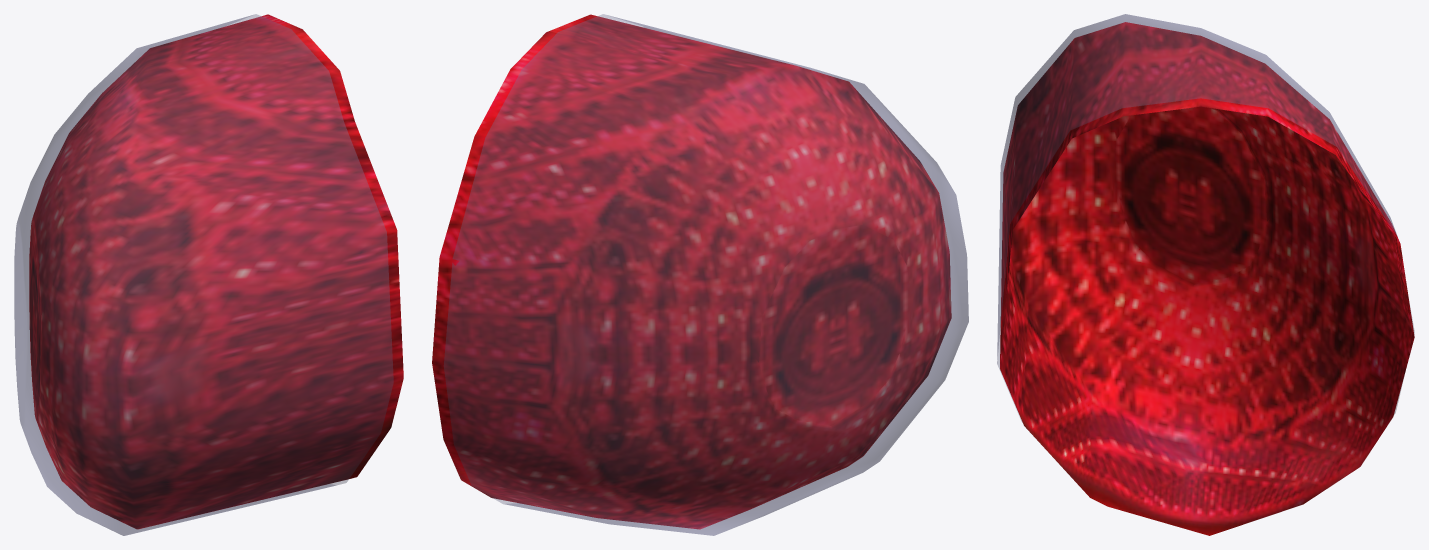
The picture shows the model from 3 angles, left to right: view 1: azimuth 30°, elevation 25°; view 2: azimuth 150°, elevation 25°; view 3: azimuth 270°, elevation 25°; orthographic projection. The views are drawn at different scales.
Parts seen in each view (by area): view 1: U236_17_541C_L_U236_17_541C_L_1_DTaSI, U236_17_541C_L_2_N_U236_17_541C_L; view 2: U236_17_541C_L_U236_17_541C_L_1_DTaSI, U236_17_541C_L_2_N_U236_17_541C_L; view 3: U236_17_541C_L_2_N_U236_17_541C_L, U236_17_541C_L_U236_17_541C_L_1_DTaSI.
Part boxes in pixels (<box>): U236_17_541C_L_U236_17_541C_L_1_DTaSI: <box>14,14,393,535</box>; U236_17_541C_L_2_N_U236_17_541C_L: <box>29,14,403,529</box>; U236_17_541C_L_U236_17_541C_L_1_DTaSI: <box>444,14,968,535</box>; U236_17_541C_L_2_N_U236_17_541C_L: <box>432,14,951,529</box>; U236_17_541C_L_2_N_U236_17_541C_L: <box>1000,22,1414,535</box>; U236_17_541C_L_U236_17_541C_L_1_DTaSI: <box>997,14,1414,422</box>.
Bounding box in the file's own units: 10.79 × 14.11 × 12.28.
